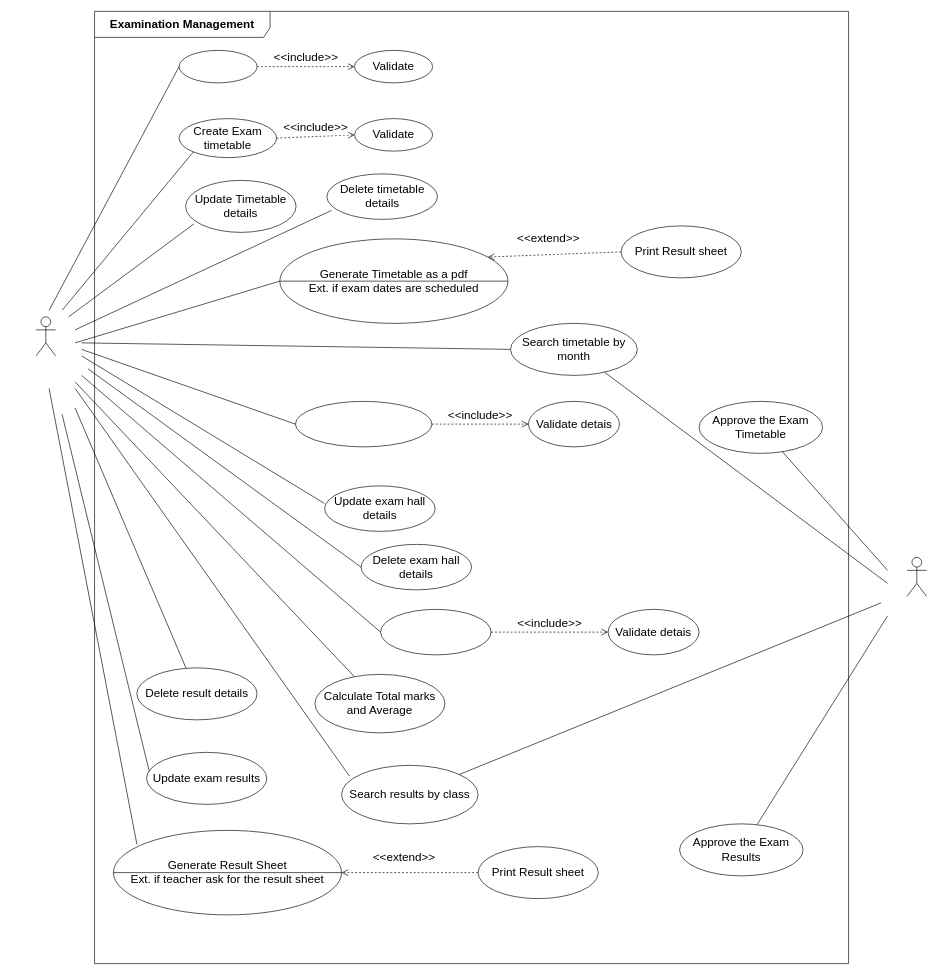
This 950x975 diagram has some shape labels left out. Here are the shapes that lost their labels. From the top down, the centre of each, then its label:
[217,66]: Login
[45,336]: Administrator
[363,424]: Add Exam Hall details
[916,576]: Principal
[435,632]: Add Exam Results
